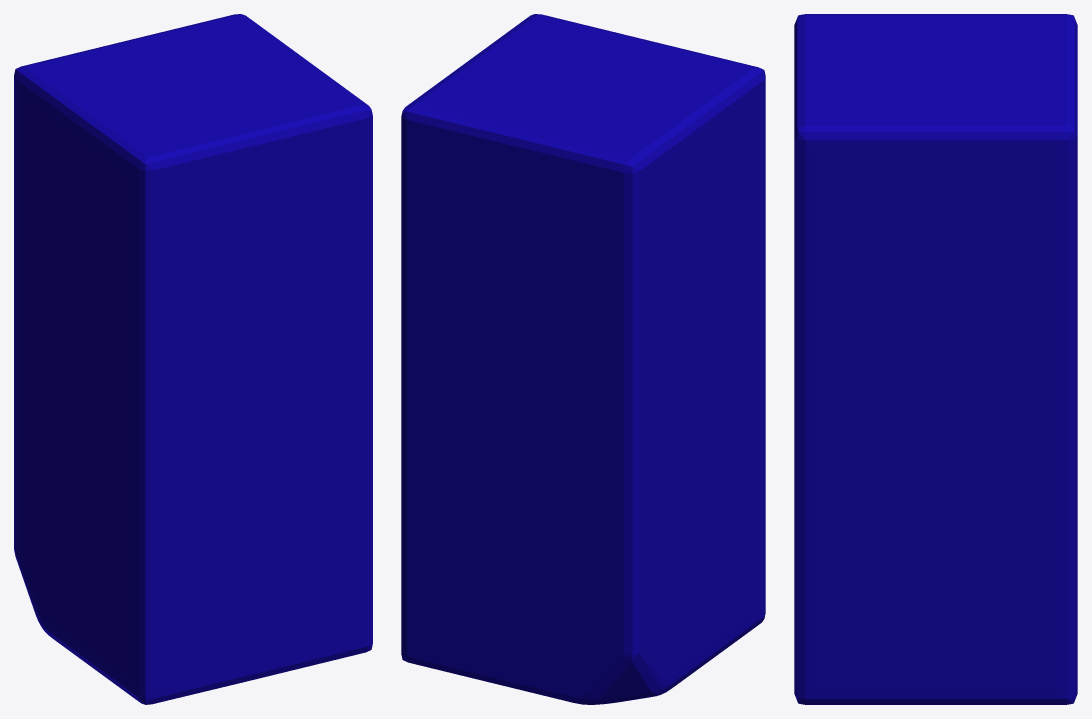
File: left_hip_roll_link_part_5.obj
3 views of the same model, side by side, from view 1: azimuth 30°, elevation 25°; view 2: azimuth 150°, elevation 25°; view 3: azimuth 270°, elevation 25° (orthographic). The views are drawn at different scales.
Size of the model in its own units: 0.0336 by 0.0752 by 0.0334.
